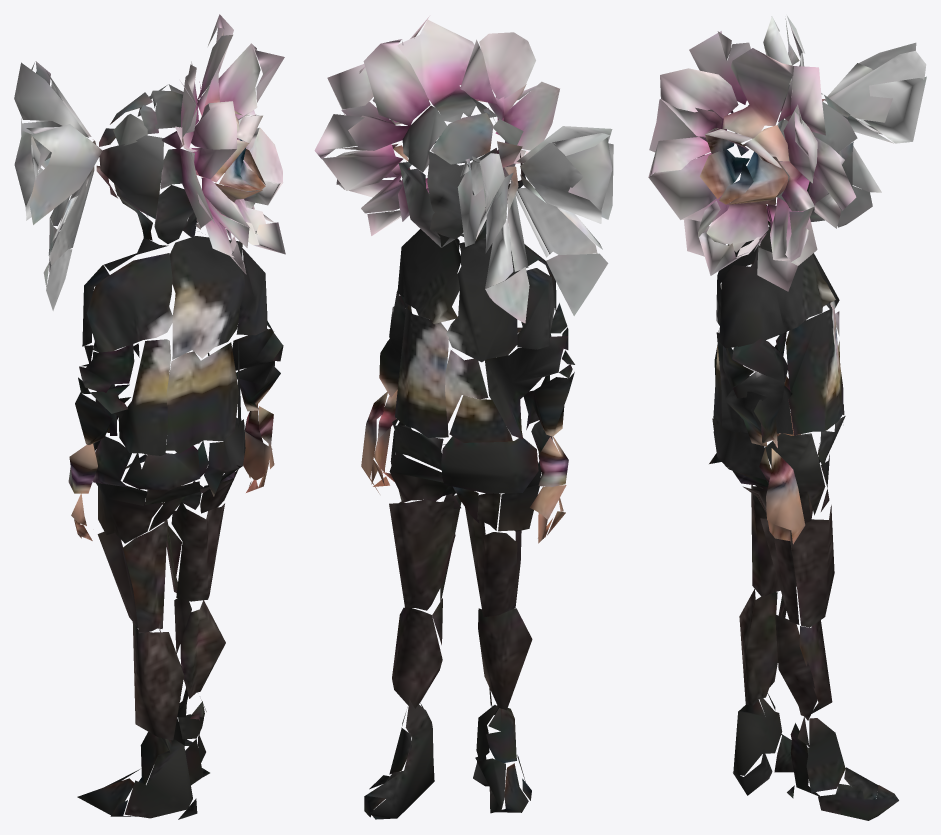
The model's file is crowd_susan_full.glb.
The picture shows the model from 3 angles, left to right: view 1: azimuth 30°, elevation 25°; view 2: azimuth 150°, elevation 25°; view 3: azimuth 270°, elevation 25°; orthographic projection.
Visible parts, largest first — view 1: tripo_node_fbabcdb4-667d-453d-b6af-065c32072f40; view 2: tripo_node_fbabcdb4-667d-453d-b6af-065c32072f40; view 3: tripo_node_fbabcdb4-667d-453d-b6af-065c32072f40.
Boxes of the visible parts, <box> form: tripo_node_fbabcdb4-667d-453d-b6af-065c32072f40: <box>14,14,285,819</box>; tripo_node_fbabcdb4-667d-453d-b6af-065c32072f40: <box>314,15,613,819</box>; tripo_node_fbabcdb4-667d-453d-b6af-065c32072f40: <box>648,16,926,820</box>.
Size of the model in its own units: 0.3796 by 1 by 0.328.
1 material, 1 textured.
